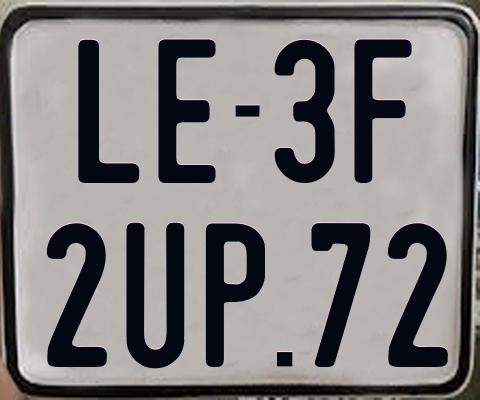2: (385, 222, 451, 367), (46, 223, 112, 367)
3: (275, 39, 341, 187)
7: (308, 221, 370, 371)
E: (157, 39, 220, 184)
F: (354, 37, 416, 187)
L: (75, 38, 138, 186)
P: (204, 222, 265, 372)
U: (126, 221, 187, 367)
